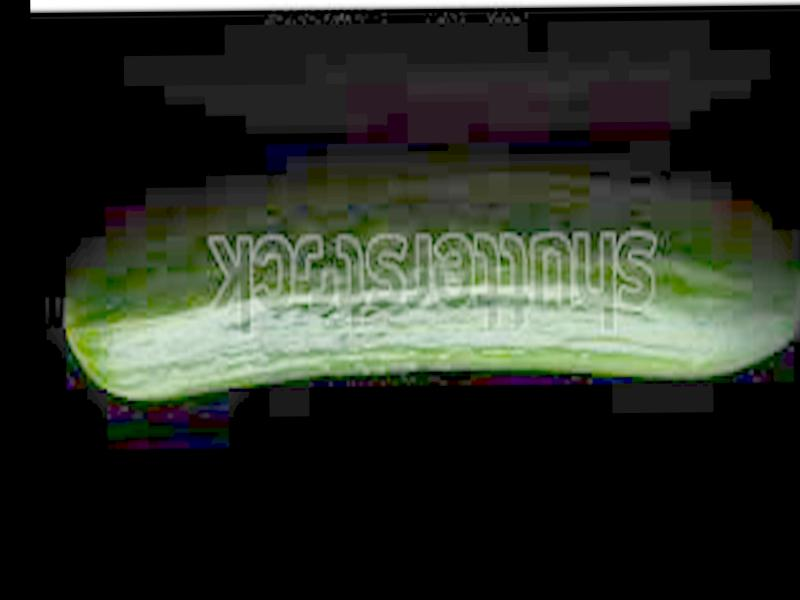Cucumber: (59, 222, 800, 395)
